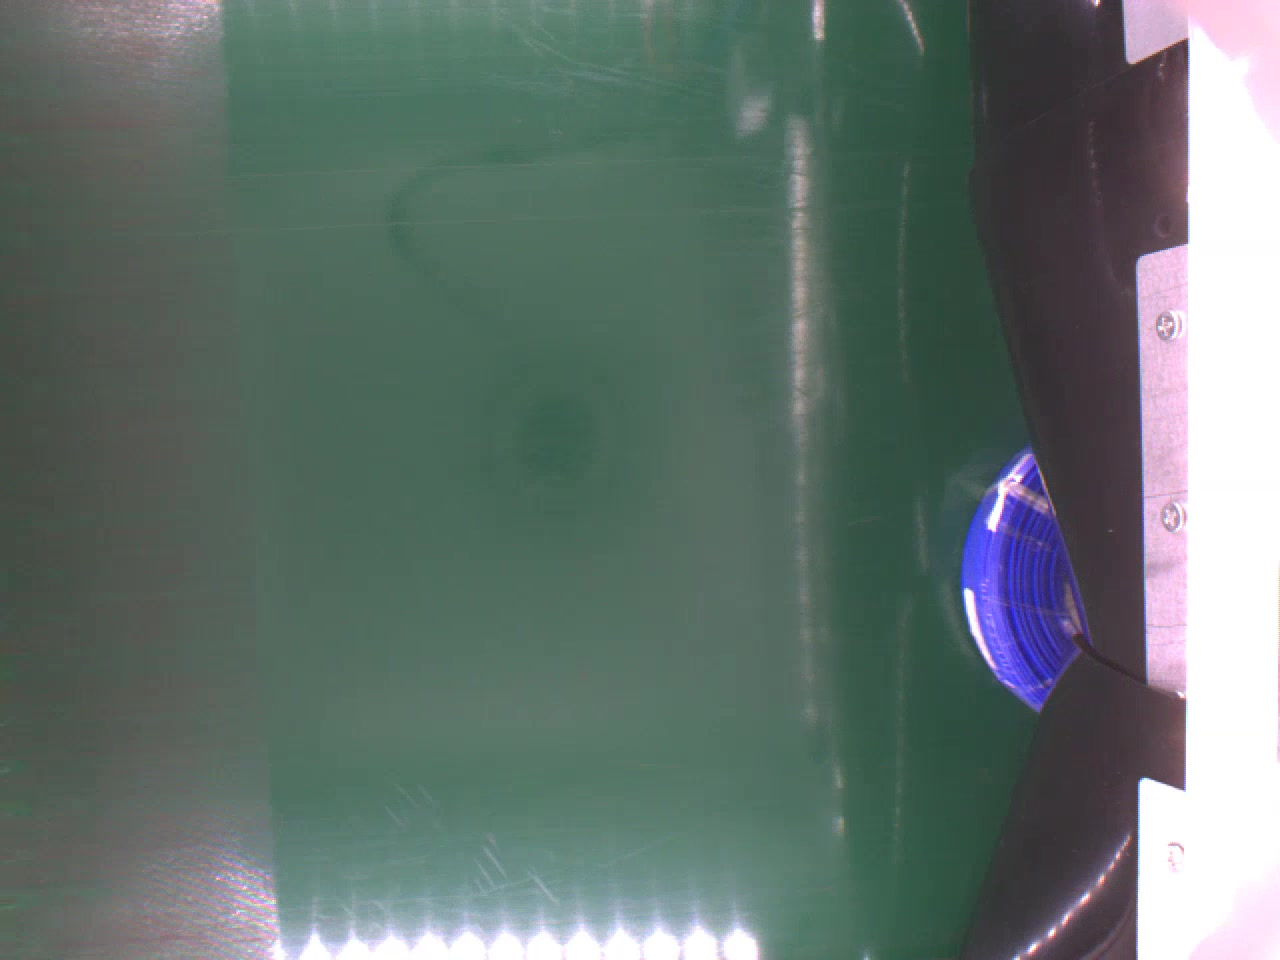blue: (959, 444, 1085, 713)
